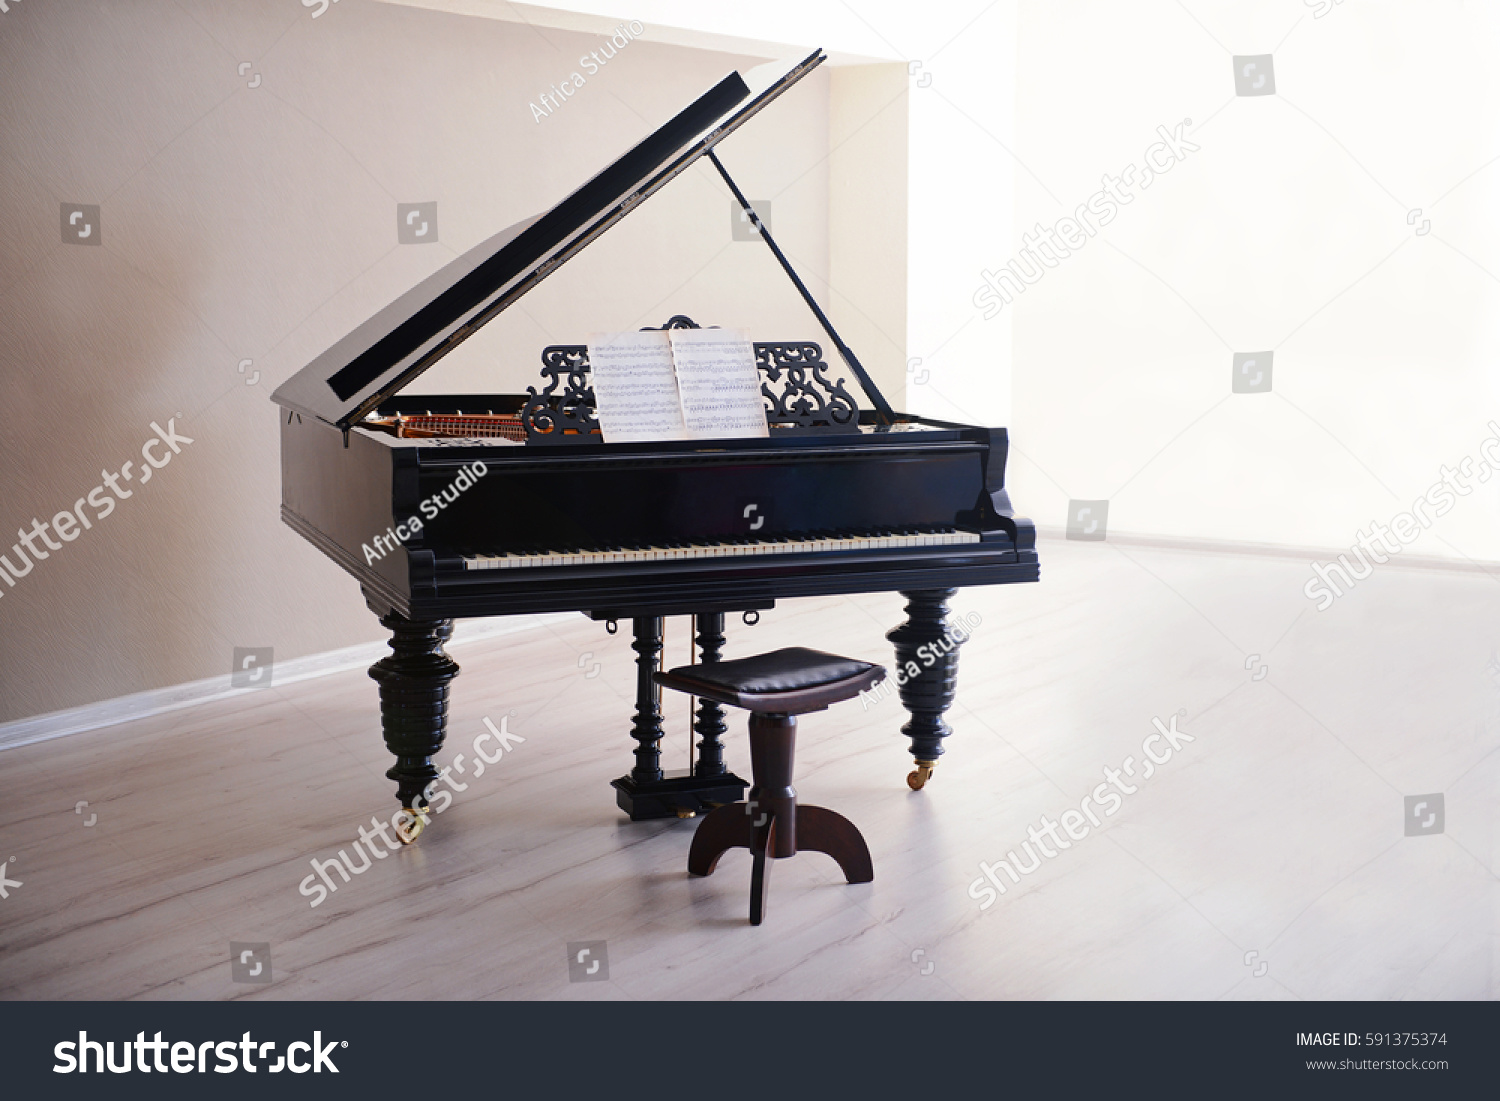Piano: (286, 50, 1234, 895)
